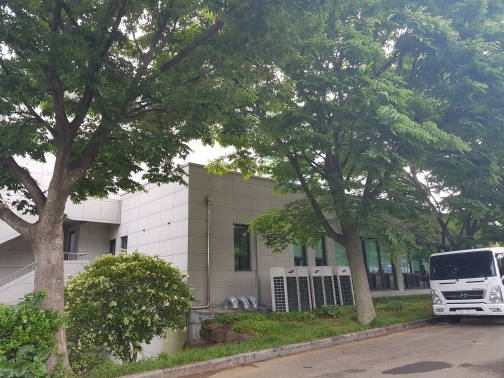Gym: (75, 133, 435, 328)
